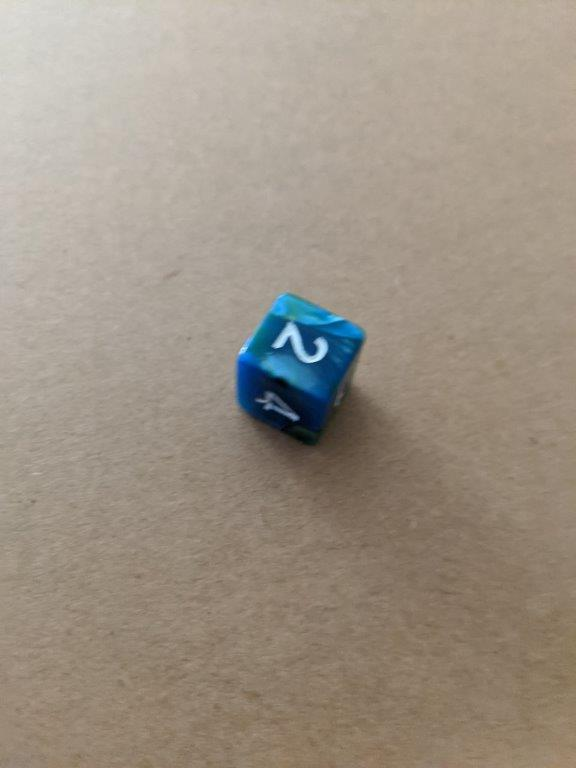d6-2: (233, 293, 366, 446)
